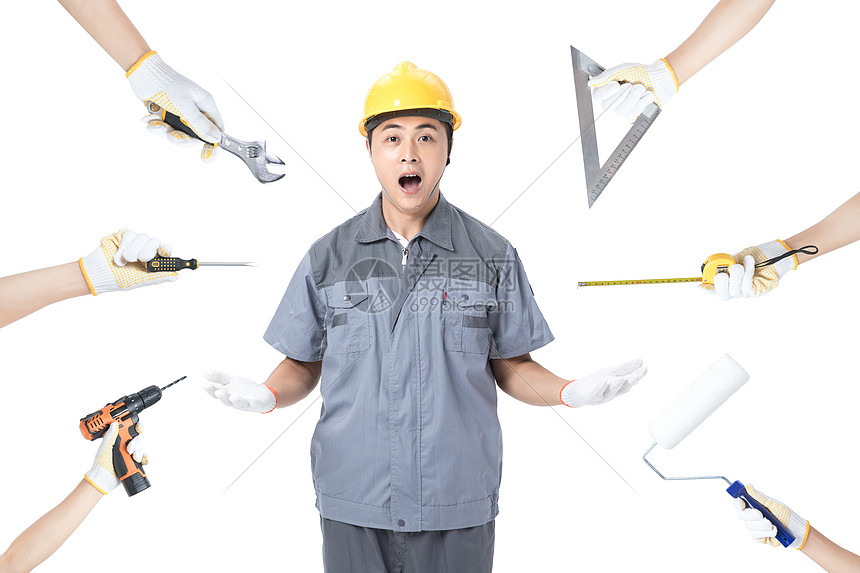safetyhat: (203, 47, 582, 554)
